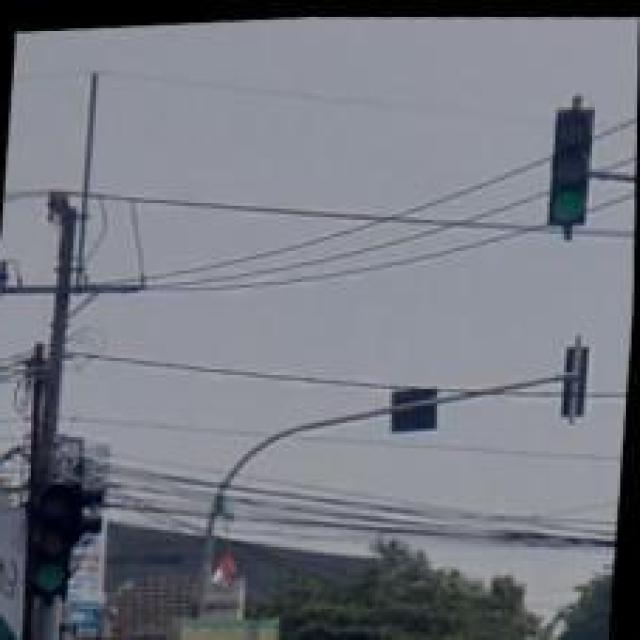green_light: (547, 94, 593, 238)
